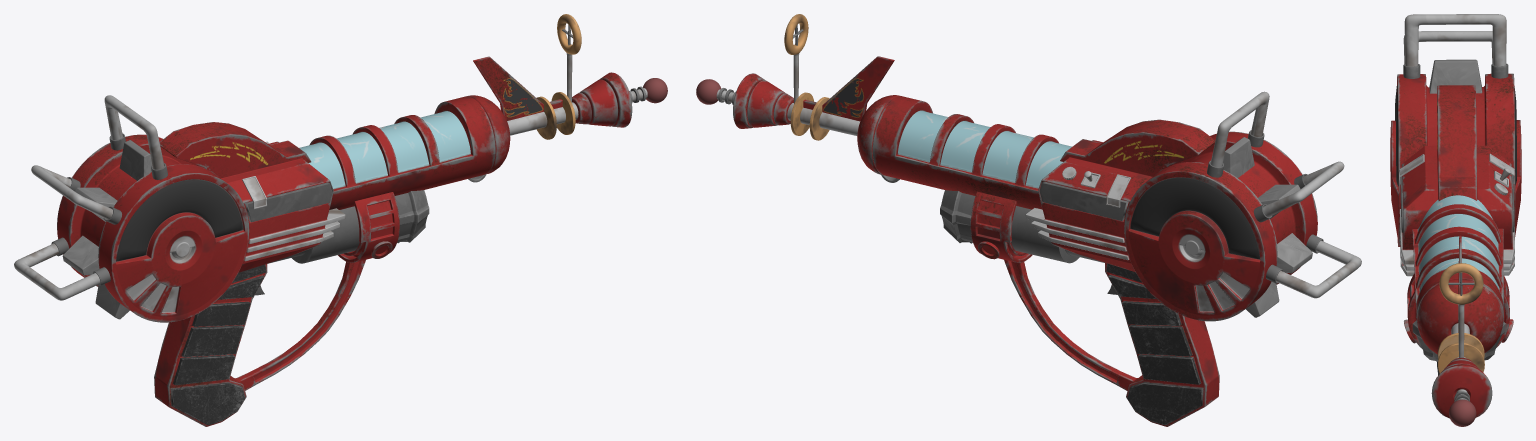
Rendered from ray_gun.glb.
3 renders of one model, left to right at view 1: azimuth 30°, elevation 25°; view 2: azimuth 150°, elevation 25°; view 3: azimuth 270°, elevation 25°, orthographic. The views are drawn at different scales.
Parts seen in each view (by area): view 1: Ray Gun; view 2: Ray Gun; view 3: Ray Gun.
Boxes of the visible parts, box(x1,y1,x2,y2) form: Ray Gun: box(14, 14, 667, 426); Ray Gun: box(696, 14, 1361, 426); Ray Gun: box(1390, 14, 1521, 426).
Size of the model in its own units: 1.04 by 0.5134 by 0.1718.
1 material, 1 textured.
